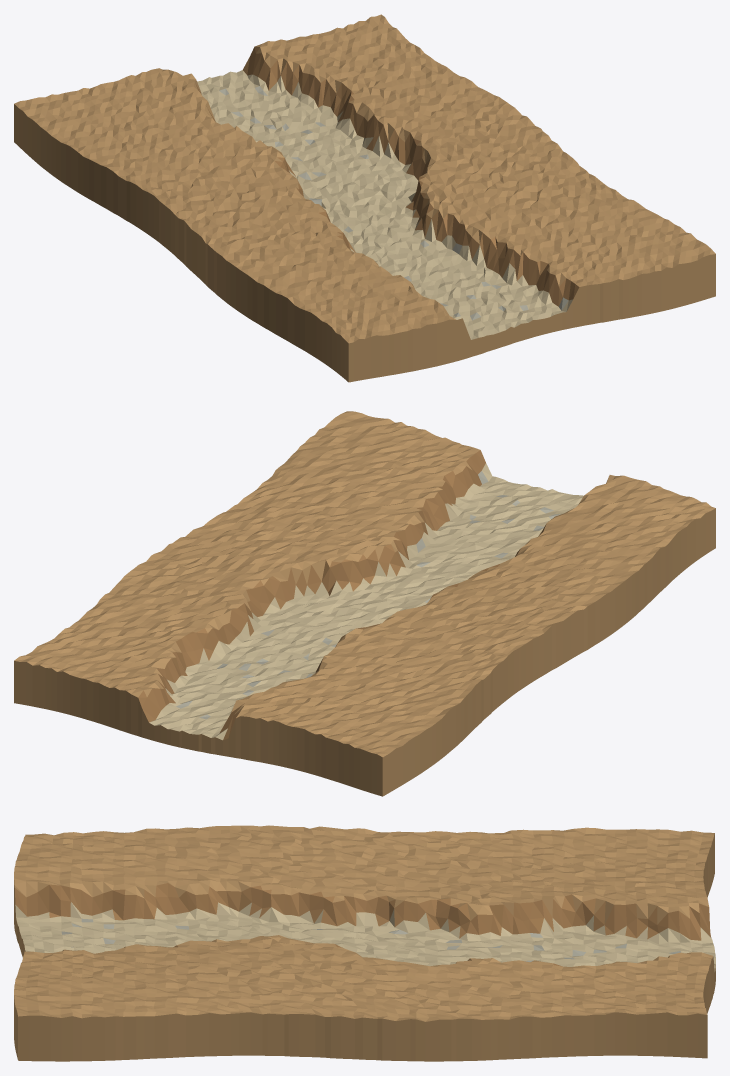
3 renders of one model, top to bottom at view 1: azimuth 30°, elevation 25°; view 2: azimuth 150°, elevation 25°; view 3: azimuth 270°, elevation 25°, orthographic. The views are drawn at different scales.
Visible parts, largest first — view 1: coherent_dry_shallow_sinuous_incised_arroyo_wash_low_unequal; view 2: coherent_dry_shallow_sinuous_incised_arroyo_wash_low_unequal; view 3: coherent_dry_shallow_sinuous_incised_arroyo_wash_low_unequal.
Part boxes in pixels (bbox=[...]): coherent_dry_shallow_sinuous_incised_arroyo_wash_low_unequal: bbox=[14, 14, 715, 382]; coherent_dry_shallow_sinuous_incised_arroyo_wash_low_unequal: bbox=[14, 411, 715, 796]; coherent_dry_shallow_sinuous_incised_arroyo_wash_low_unequal: bbox=[14, 825, 715, 1061].
Size of the model in its own units: 14.44 by 1.62 by 22.4.
